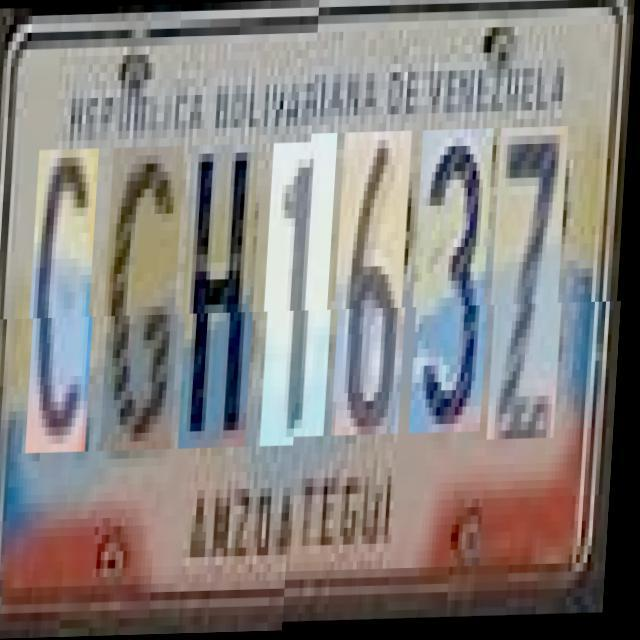1: (265, 144, 343, 448)
3: (414, 140, 499, 444)
6: (336, 142, 417, 446)
C: (31, 149, 105, 453)
G: (106, 146, 190, 452)
H: (183, 145, 264, 450)
Z: (492, 138, 574, 452)
